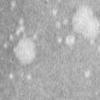white: (72, 6, 100, 43), (15, 39, 35, 66), (66, 35, 76, 48), (16, 26, 25, 34), (85, 68, 90, 81), (52, 9, 59, 18), (11, 0, 17, 10), (21, 32, 28, 40), (17, 18, 25, 25), (88, 40, 96, 47), (63, 19, 70, 25), (9, 72, 14, 80), (8, 34, 14, 40), (95, 44, 100, 51), (27, 74, 32, 80), (15, 30, 21, 35), (56, 22, 59, 29), (3, 43, 7, 48), (59, 38, 61, 44)
